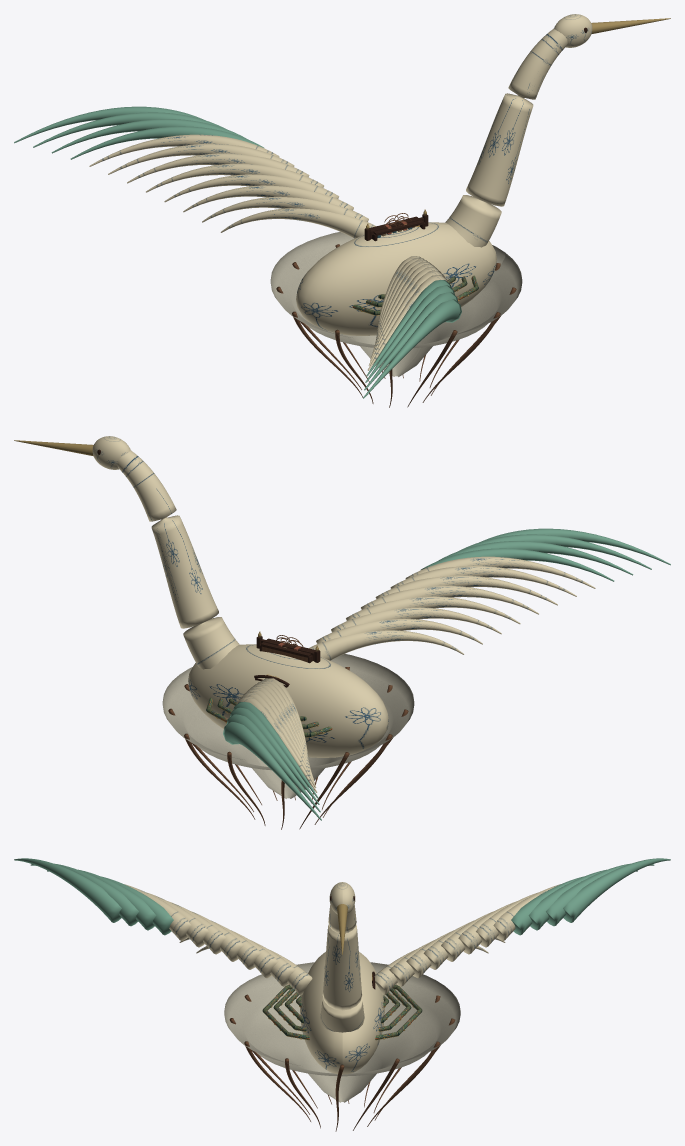
The model's file is precision_library.glb.
The picture shows the model from 3 angles, top to bottom: view 1: azimuth 30°, elevation 25°; view 2: azimuth 150°, elevation 25°; view 3: azimuth 270°, elevation 25°; orthographic projection. The views are drawn at different scales.
Parts seen in each view (by area): view 1: crane, floating_under, caisson, bookcase; view 2: crane, floating_under, bookcase, caisson; view 3: crane, floating_under, caisson.
Part boxes in pixels (<box>): crane: <box>14,14,670,398</box>; floating_under: <box>270,232,522,407</box>; caisson: <box>352,275,478,315</box>; bookcase: <box>369,216,425,241</box>; crane: <box>14,436,670,820</box>; floating_under: <box>162,654,414,829</box>; bookcase: <box>259,637,315,663</box>; caisson: <box>206,697,332,737</box>; crane: <box>14,858,670,1074</box>; floating_under: <box>224,962,460,1131</box>; caisson: <box>262,985,422,1040</box>.
Size of the model in its own units: 22.15 by 14.69 by 27.82.
Materials: 16 (8 with a texture image).
